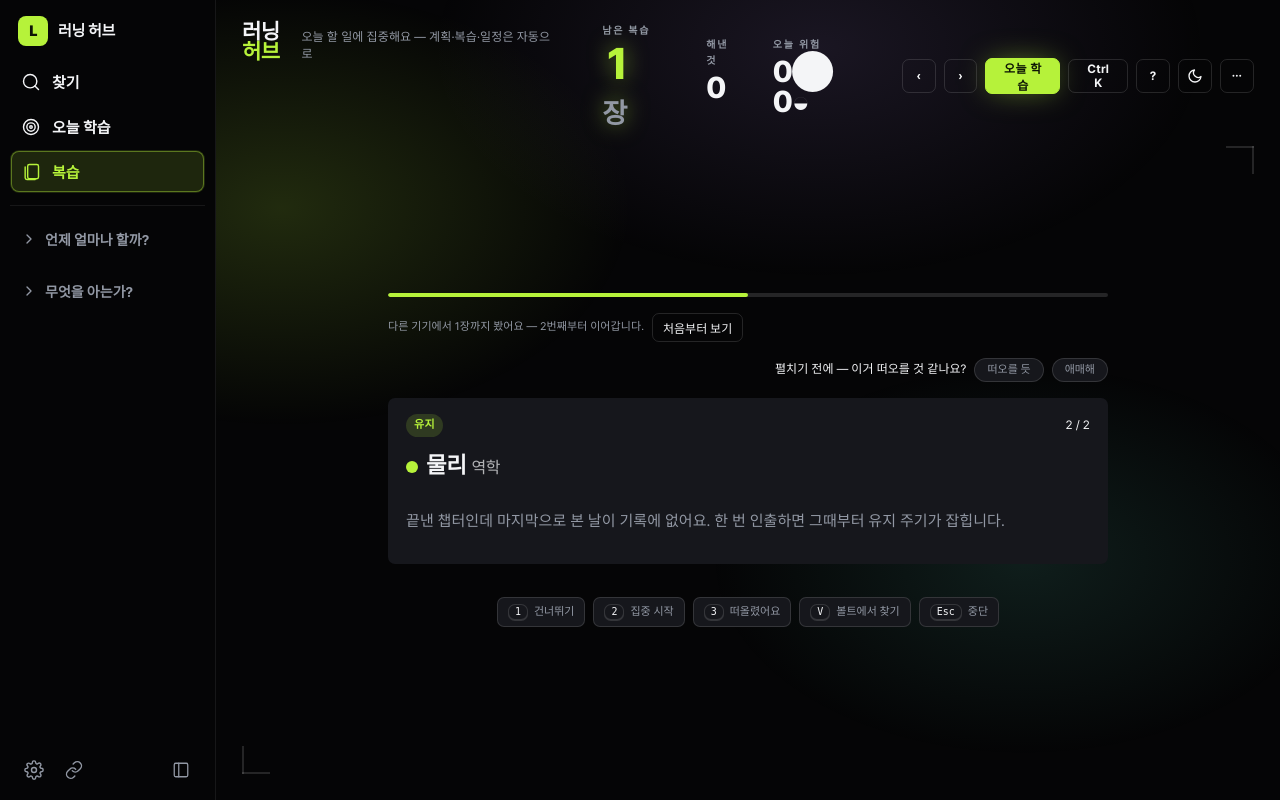
review-run: 이어하기로 오면 그 카드에서 시작한다(N-7 착지)
This screenshot has width=1280, height=800.
expect the text "유지" is shown: met, box [406,414,443,437]
expect the text "다른 기기에서 1장까지 봤어요 — 2번째부터 이어갑니다. 처음부터 보기" is shown: met, box [388,312,743,342]
Click the button "처음부터 보기" at point(698, 327), box [652,312,743,342]
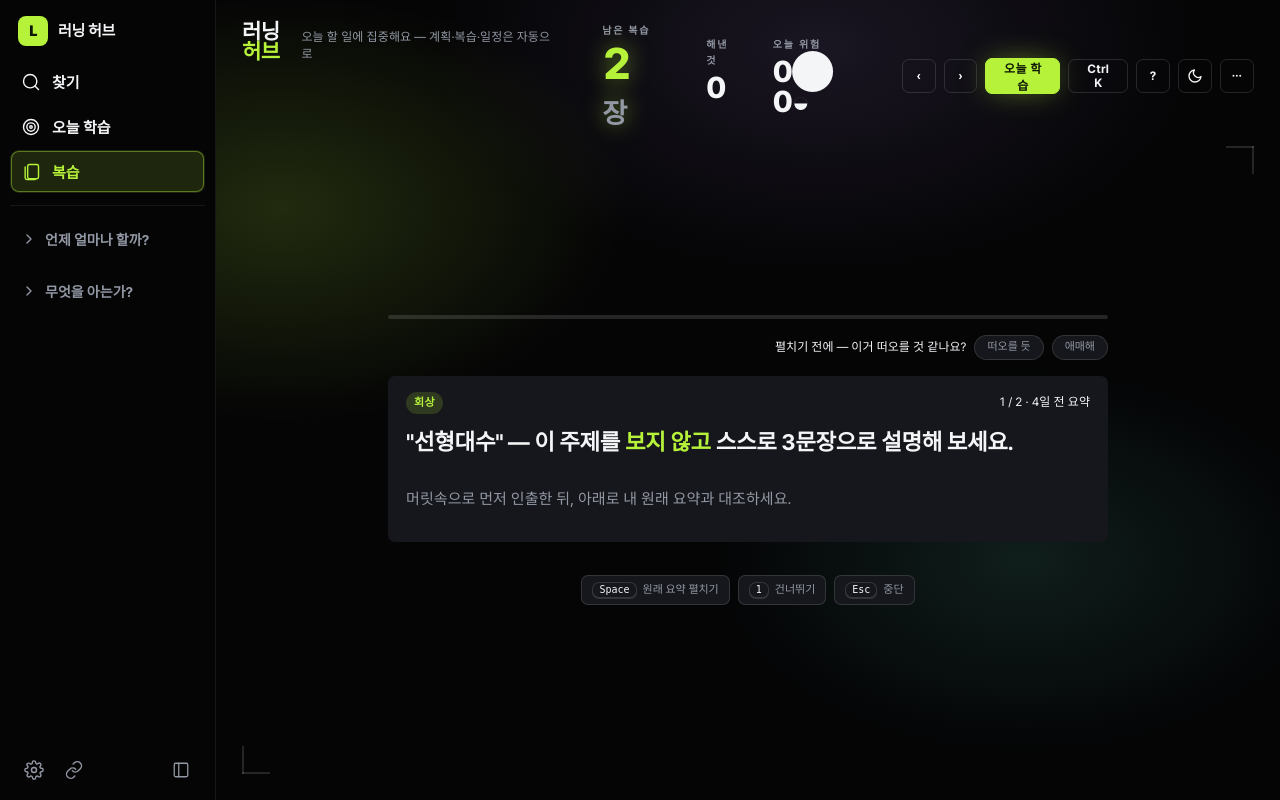
expect the text "회상" is shown: met, box [406,392,443,414]
